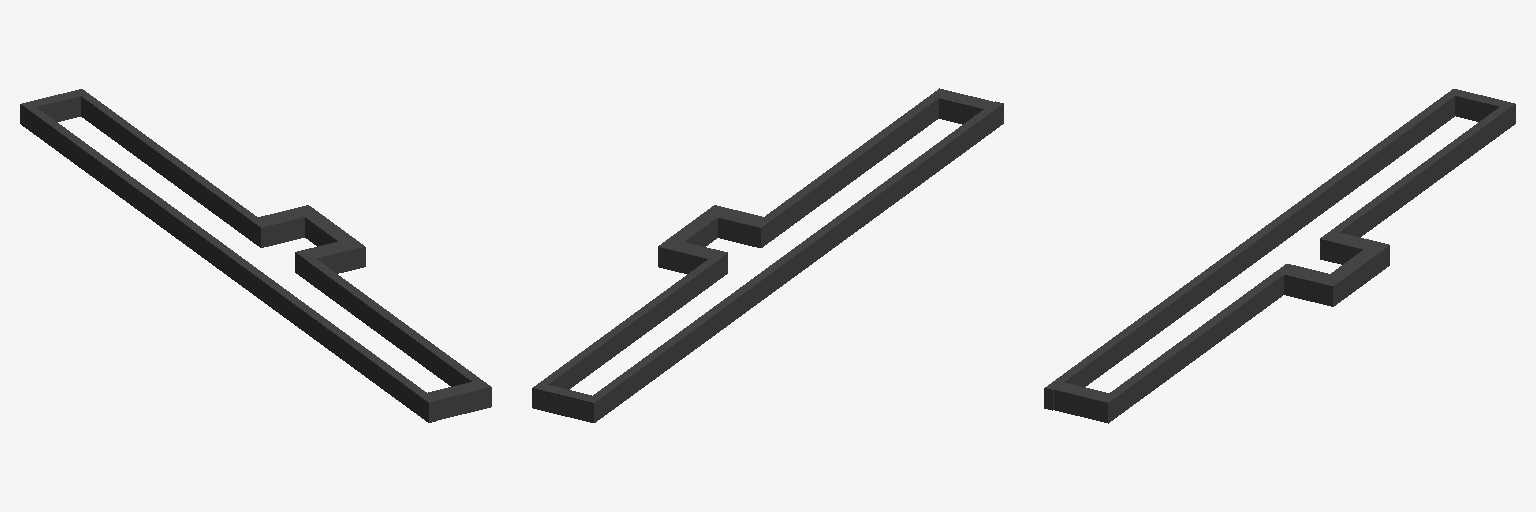
robot.urdf — tmaze.urdf:
<?xml version="0.0" ?>
<robot name="tmaze.urdf">
  <link concave="yes" name="baseLink">
    <inertial>
      <origin rpy="0 0 0" xyz="0 0 0"/>
       <mass value="0"/>
       <inertia ixx="0" ixy="0" ixz="0" iyy="0" iyz="0" izz="0" />
    </inertial>
    <visual>
      <origin rpy="1.5707963 0 0" xyz="0 0 0.01"/>
      <geometry>
		    <mesh filename="corridor.obj" scale=".75 1 1"/>
      </geometry>
		  <material name="grey">
          <color rgba="0.3 0.3 0.3 1"/>
      </material>
    </visual>
    <collision concave="yes">
      <origin rpy="1.5707963 0 0" xyz="0 0 0.01"/>
      <geometry>
          <mesh filename="corridor.obj" scale=".75 1 1"/>
      </geometry>
    </collision>
  </link>
</robot>

--- Render facts (derived) ---
Views: 3 orthographic renders of the robot side by side, from view 1: azimuth 30°, elevation 25°; view 2: azimuth 150°, elevation 25°; view 3: azimuth 330°, elevation 25°.
Model tmaze.urdf with 1 links and 0 joints (none), rooted at baseLink, posed every joint at zero.
Visible links, largest first — view 1: baseLink; view 2: baseLink; view 3: baseLink.
Link boxes in pixels (left/top/right/bottom): baseLink: left=20, top=89, right=491, bottom=422; baseLink: left=532, top=88, right=1003, bottom=422; baseLink: left=1044, top=89, right=1515, bottom=423.
Bounding box of the posed robot: 0.3831 × 2.41 × 0.0668 m (x, y, z).
Meshes: 1 distinct files referenced, 1 mesh visuals loaded (1 OBJ).
